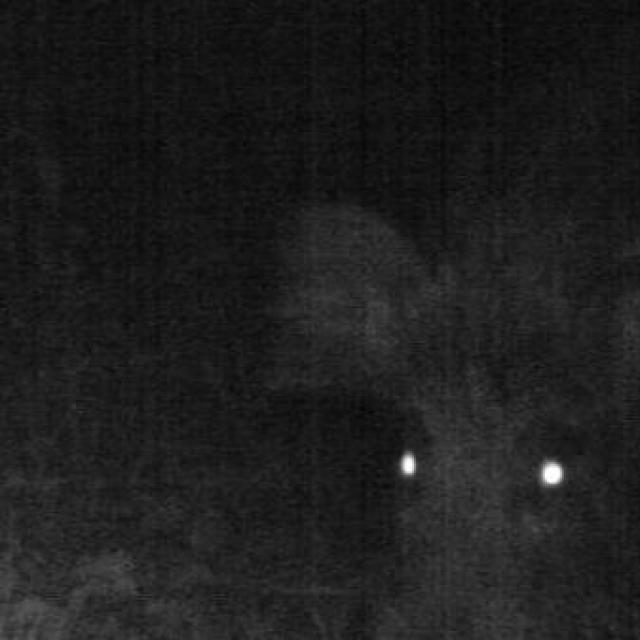pig: (239, 199, 640, 640)
